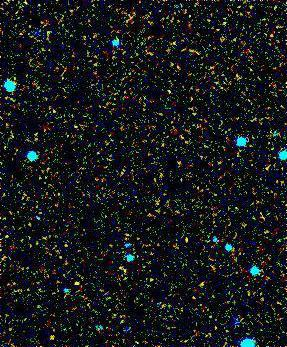star: (59, 269, 89, 299)
